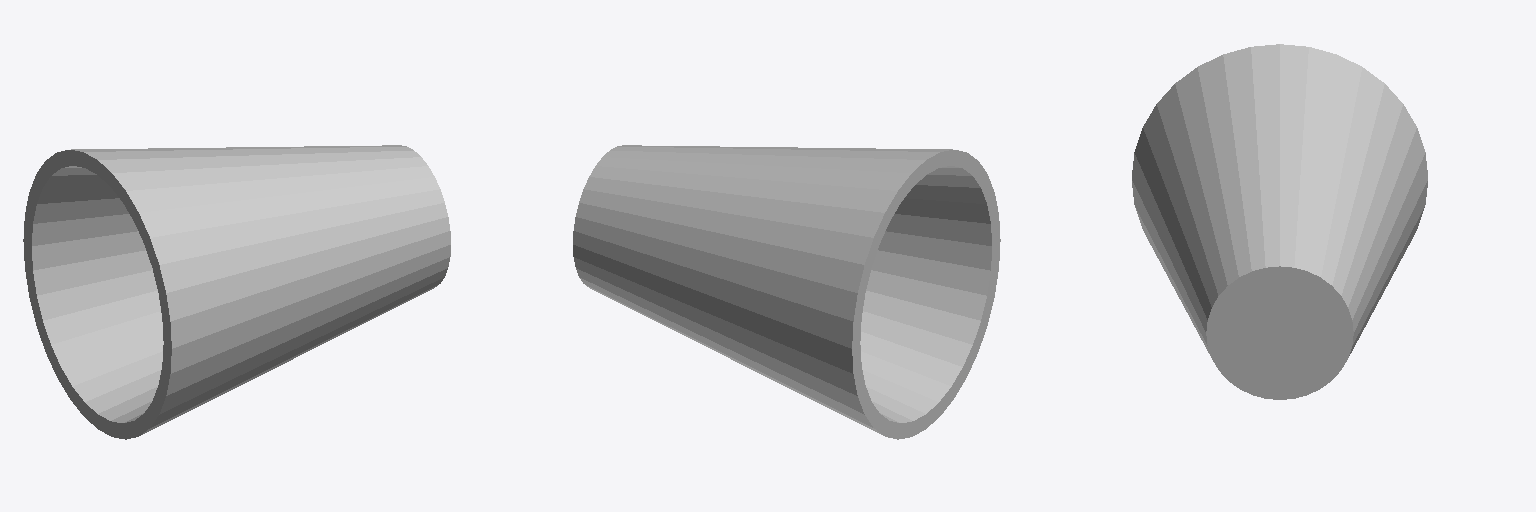
Rendered from parts_04.obj.
3 views of the same model, side by side, from view 1: azimuth 30°, elevation 25°; view 2: azimuth 150°, elevation 25°; view 3: azimuth 270°, elevation 25° (orthographic).
Parts seen in each view (by area): view 1: 右エンジン; view 2: 右エンジン; view 3: 右エンジン.
Part boxes in pixels (x1,y1,x2,y2): 右エンジン: (23,145,450,439); 右エンジン: (573,145,1000,439); 右エンジン: (1132,44,1427,399).
Size of the model in its own units: 0.3285 by 0.2668 by 0.2668.